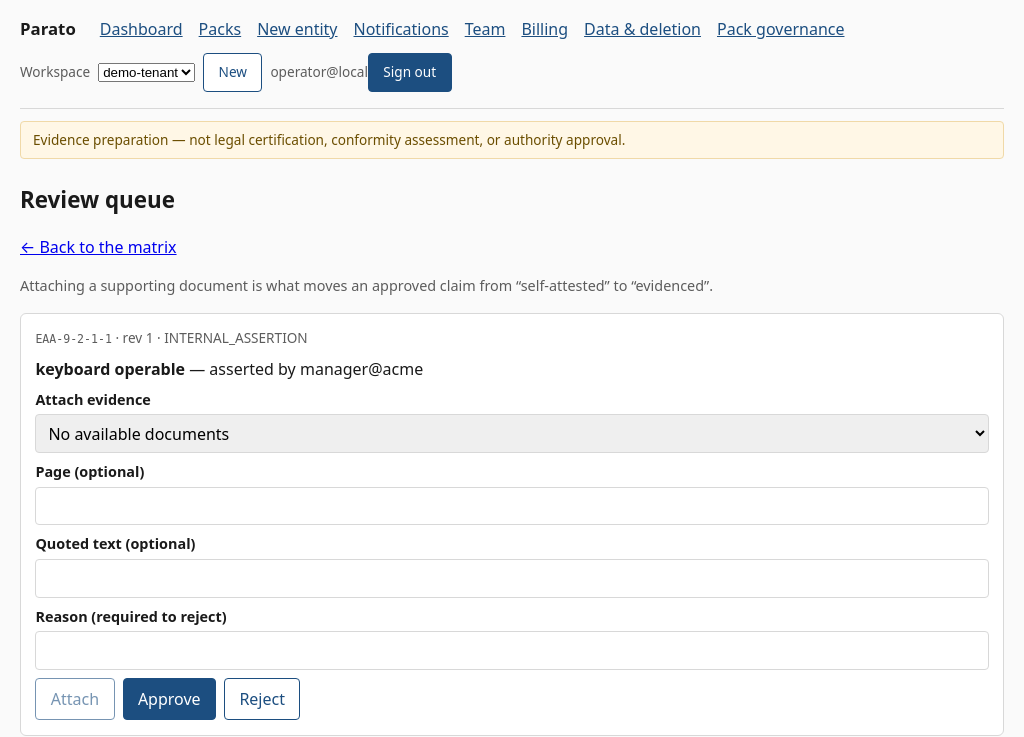
Test case: ReviewQueuePage › sends the reason with a rejection and surfaces a server error
The width and height of the screenshot is (1024, 737).
Expected: the text "EAA-9-2-1-1" is shown, top-left (35, 332), bottom-right (112, 346)
Type "unit is wrong" into the field labelled "Reason (required to reject)". click: x=512, y=651
box: top-left (35, 631), bottom-right (989, 670)
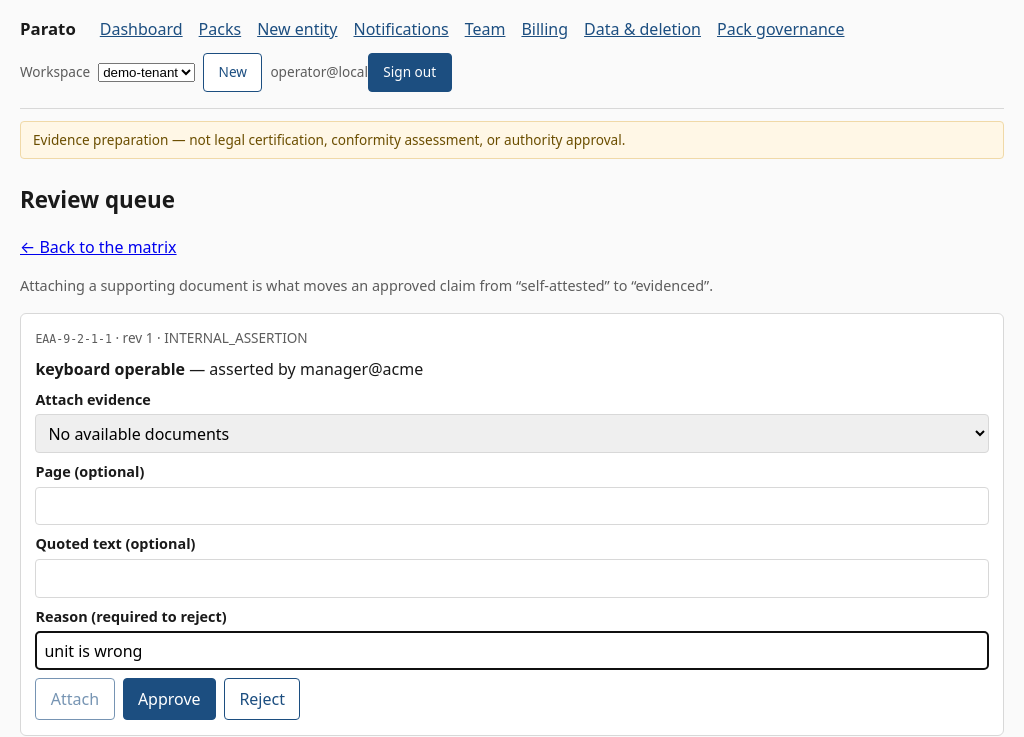
Click the button "Reject". click: x=262, y=699
box: top-left (224, 678), bottom-right (300, 720)
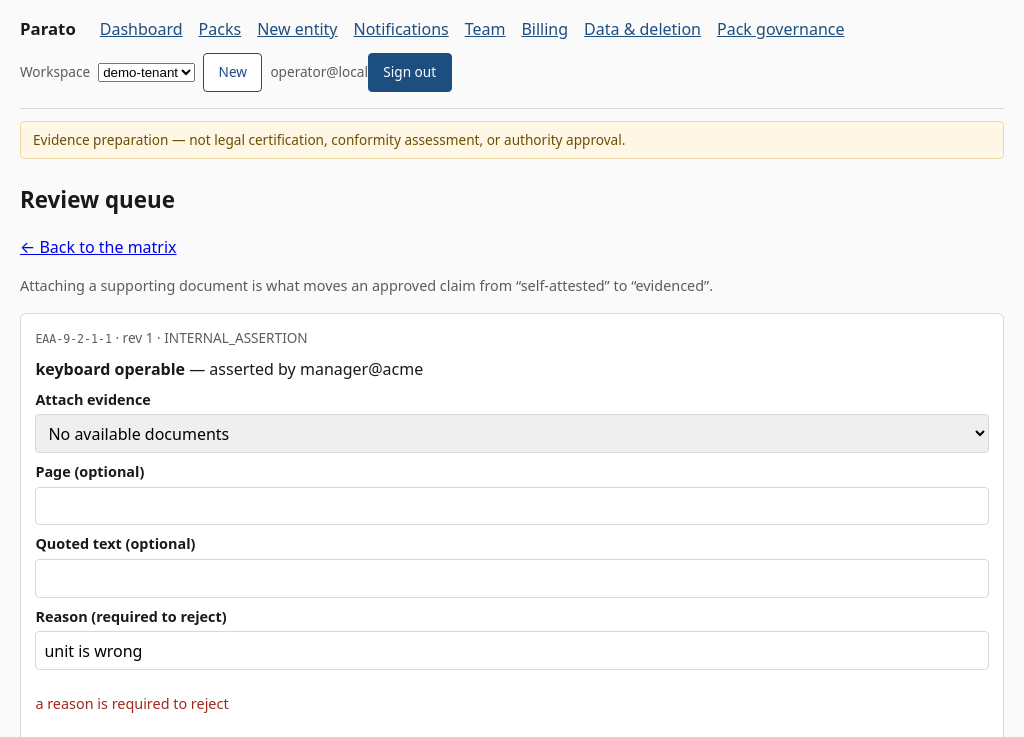
Result: the text "a reason is required to reject" is shown at top-left (35, 694), bottom-right (229, 712)
